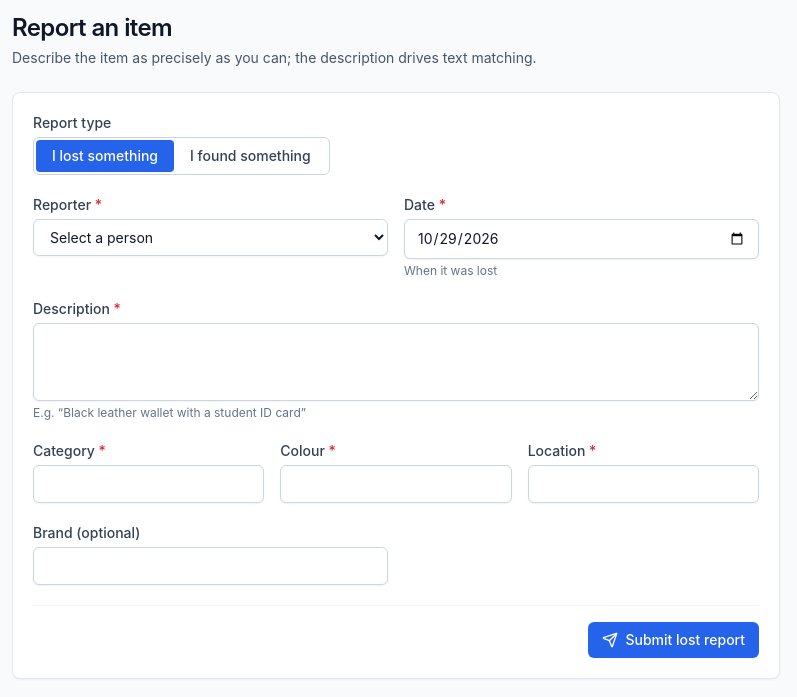
it: Report an item › maps an unknown reporter error to the reporter field
This screenshot has width=797, height=697.
Select "Suma (U001)" in the dropdown labelled "Reporter *" at (210, 238), box x1=33 y1=219 x2=388 y2=256
Type "Black leather wallet with a student ID card" into the text box labelled "Description *" at (396, 362), box x1=33 y1=323 x2=759 y2=401
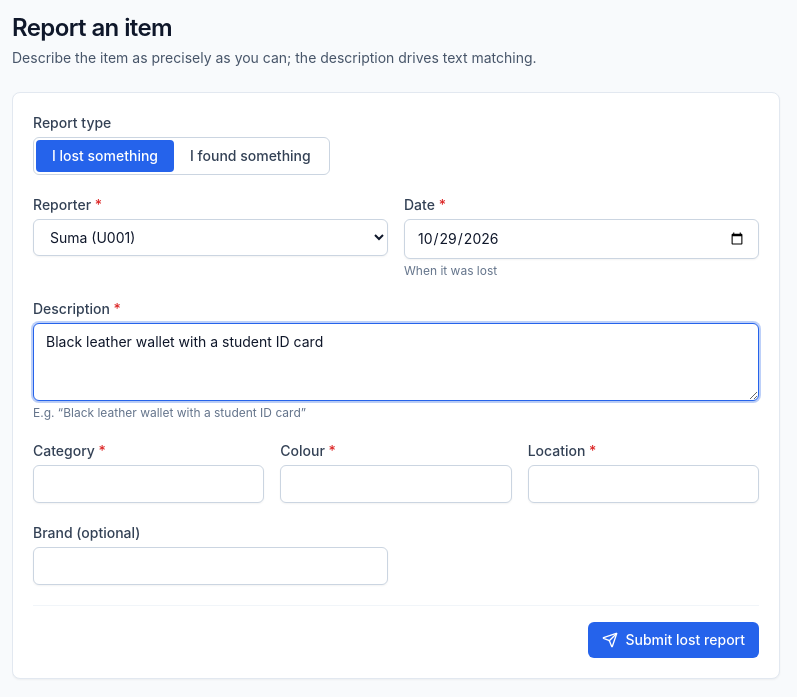
Type "Wallet" into the field labelled "Category *" at (149, 484), box x1=33 y1=465 x2=264 y2=503
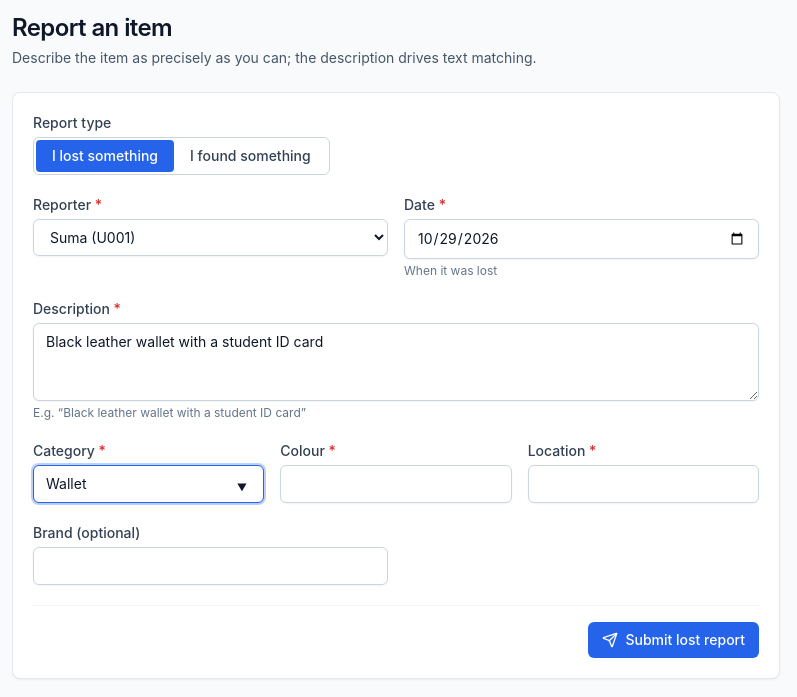
Type "black" into the field labelled "Colour *" at (396, 484), box x1=280 y1=465 x2=512 y2=503
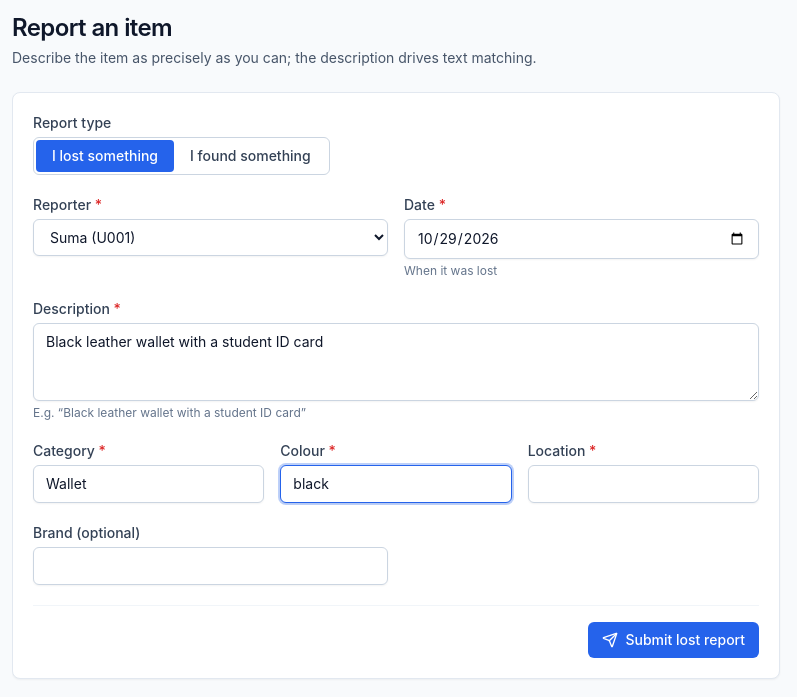
Type "Library" into the field labelled "Location *" at (643, 484), box x1=528 y1=465 x2=759 y2=503
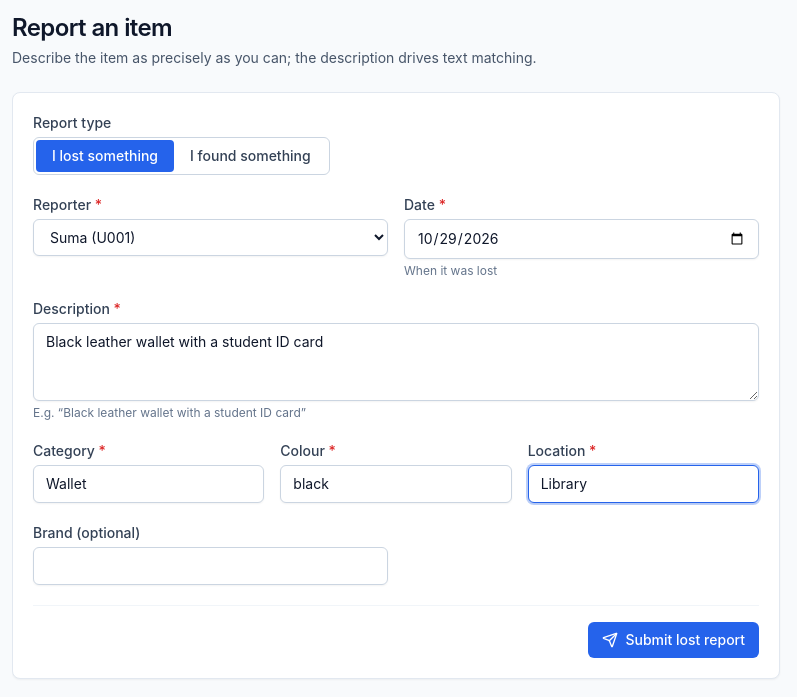
Type "2026-03-20" into the date field labelled "Date *" at (582, 239), box x1=404 y1=219 x2=759 y2=259
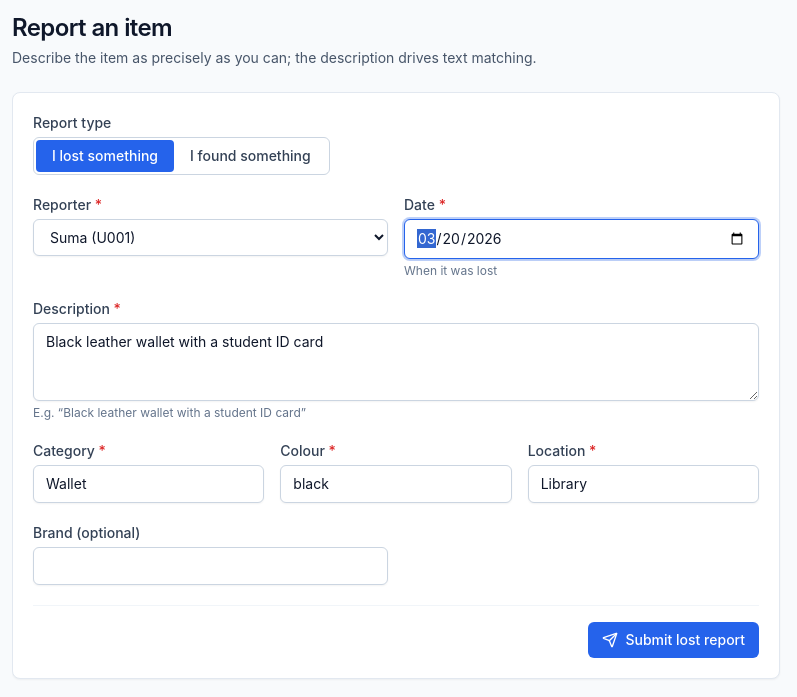
Click the button "Submit lost report" at (673, 640), box x1=588 y1=622 x2=759 y2=658
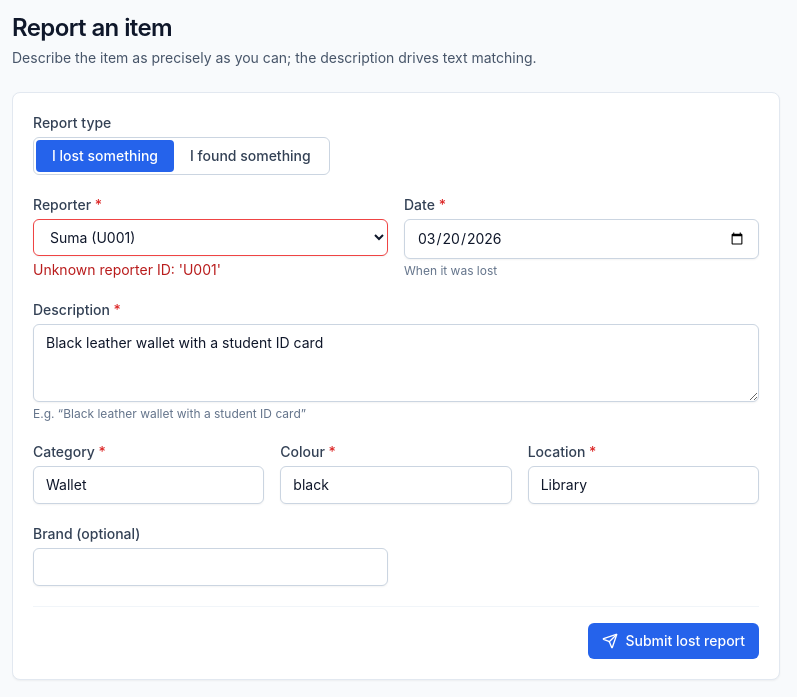
Expected: the text "Unknown reporter ID: 'U001'" is shown, x1=33 y1=261 x2=221 y2=278
